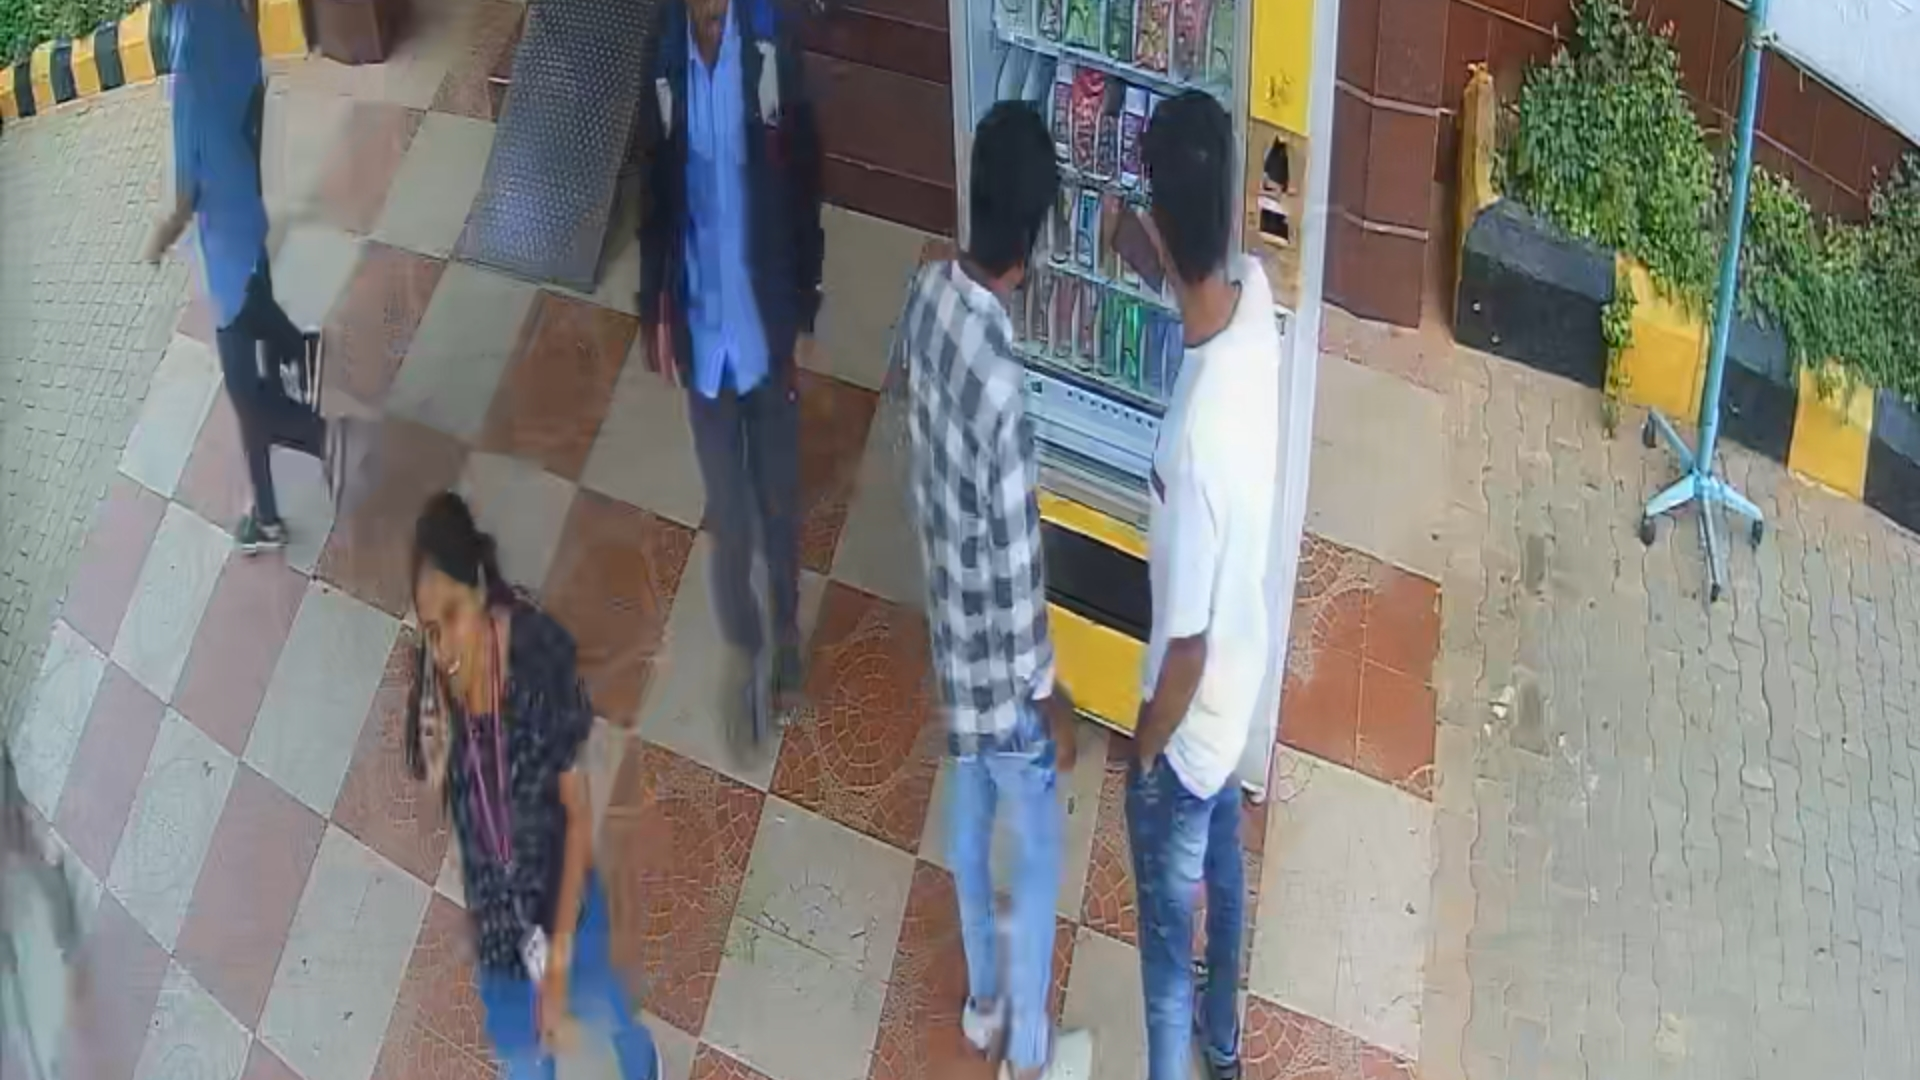intruder: (381, 483, 680, 1080)
